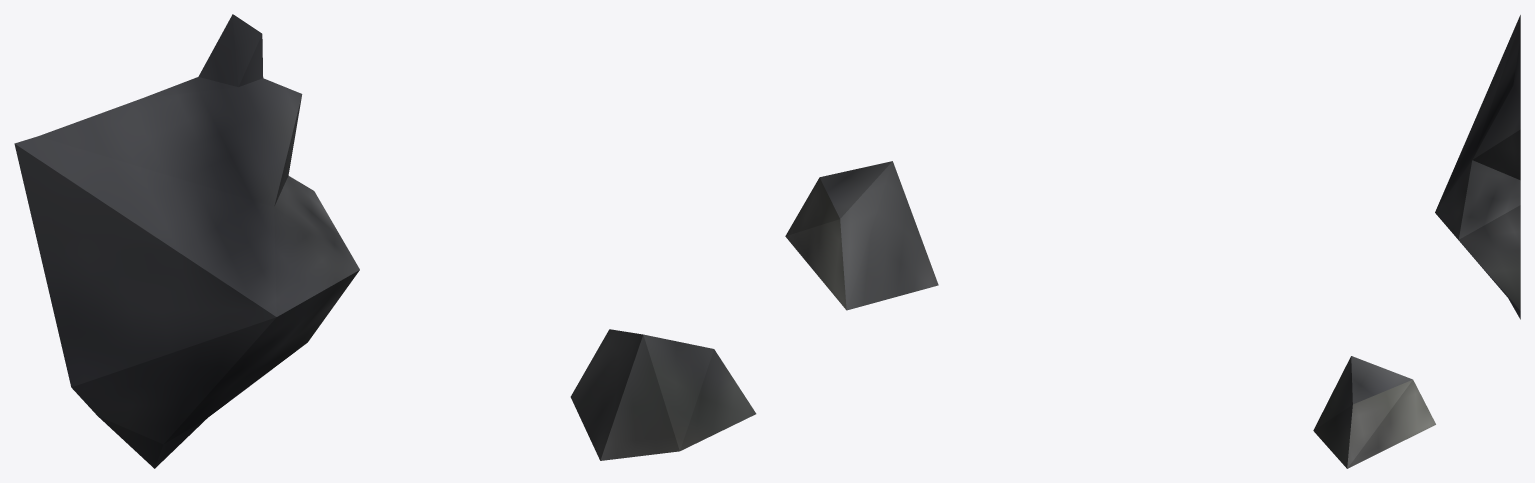
3 views of the same model, side by side, from view 1: azimuth 30°, elevation 25°; view 2: azimuth 150°, elevation 25°; view 3: azimuth 270°, elevation 25° (orthographic). The views are drawn at different scales.
Size of the model in its own units: 0.1691 by 0.1135 by 0.0684.
Materials: 1 (1 with a texture image).
